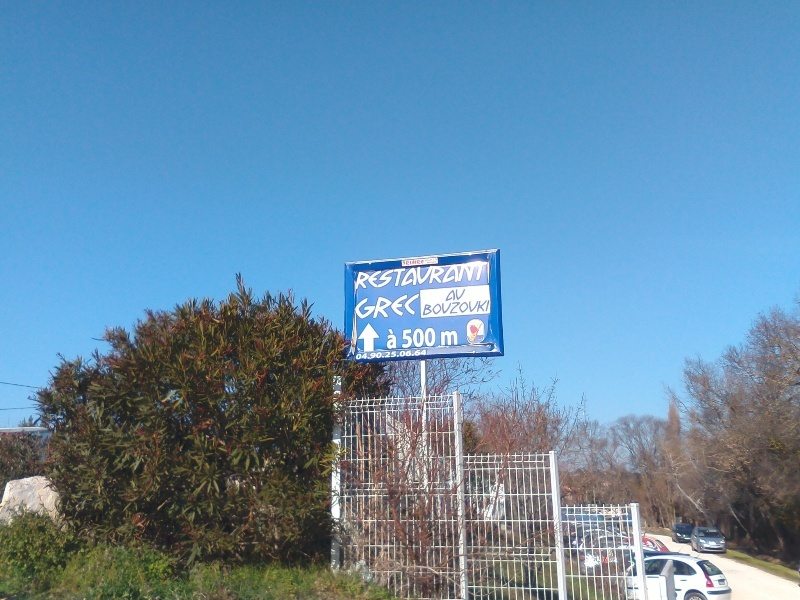text: (369, 261, 384, 290), (385, 261, 400, 290), (401, 261, 416, 290), (417, 261, 432, 290), (433, 261, 448, 290), (449, 261, 464, 290), (465, 261, 480, 290), (369, 293, 384, 320), (385, 293, 400, 320), (401, 293, 416, 320), (355, 293, 368, 320), (417, 327, 432, 349), (386, 329, 400, 350), (404, 327, 416, 349), (359, 261, 368, 290), (481, 261, 490, 290), (433, 299, 448, 316), (449, 299, 464, 316), (465, 299, 480, 316), (450, 288, 464, 302), (449, 329, 459, 347), (369, 349, 384, 360), (385, 349, 400, 360), (401, 349, 416, 360), (481, 299, 490, 316), (356, 349, 368, 360), (441, 329, 448, 347), (417, 349, 427, 360), (403, 259, 416, 267), (426, 299, 432, 316), (417, 293, 420, 320), (417, 259, 426, 267), (433, 327, 436, 349), (425, 258, 432, 265), (433, 258, 439, 265), (465, 288, 467, 302)
